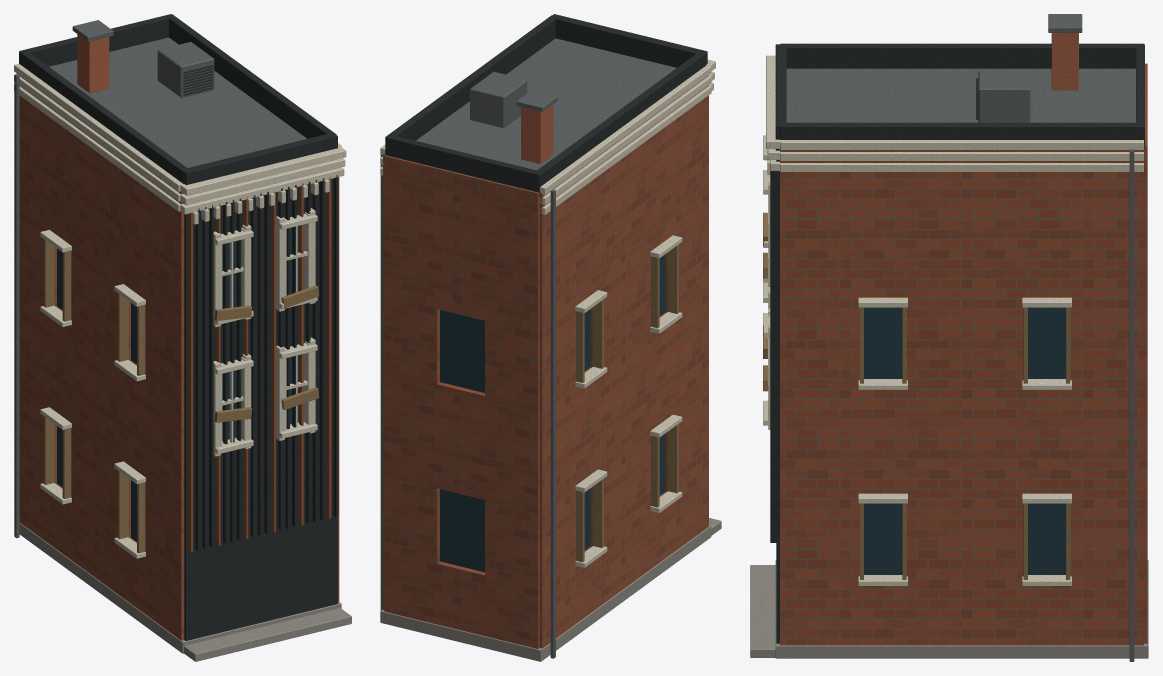
Rendered from WRHS8_lod1.glb.
3 renders of one model, left to right at view 1: azimuth 30°, elevation 25°; view 2: azimuth 150°, elevation 25°; view 3: azimuth 270°, elevation 25°, orthographic. The views are drawn at different scales.
Visible parts, largest first — view 1: WRHS8_LOD1; view 2: WRHS8_LOD1; view 3: WRHS8_LOD1.
Part boxes in pixels (<box>): WRHS8_LOD1: <box>14,14,351,661</box>; WRHS8_LOD1: <box>380,14,721,661</box>; WRHS8_LOD1: <box>750,14,1148,661</box>.
Size of the model in its own units: 3.71 by 10.45 by 6.57.
10 materials, 8 textured.
